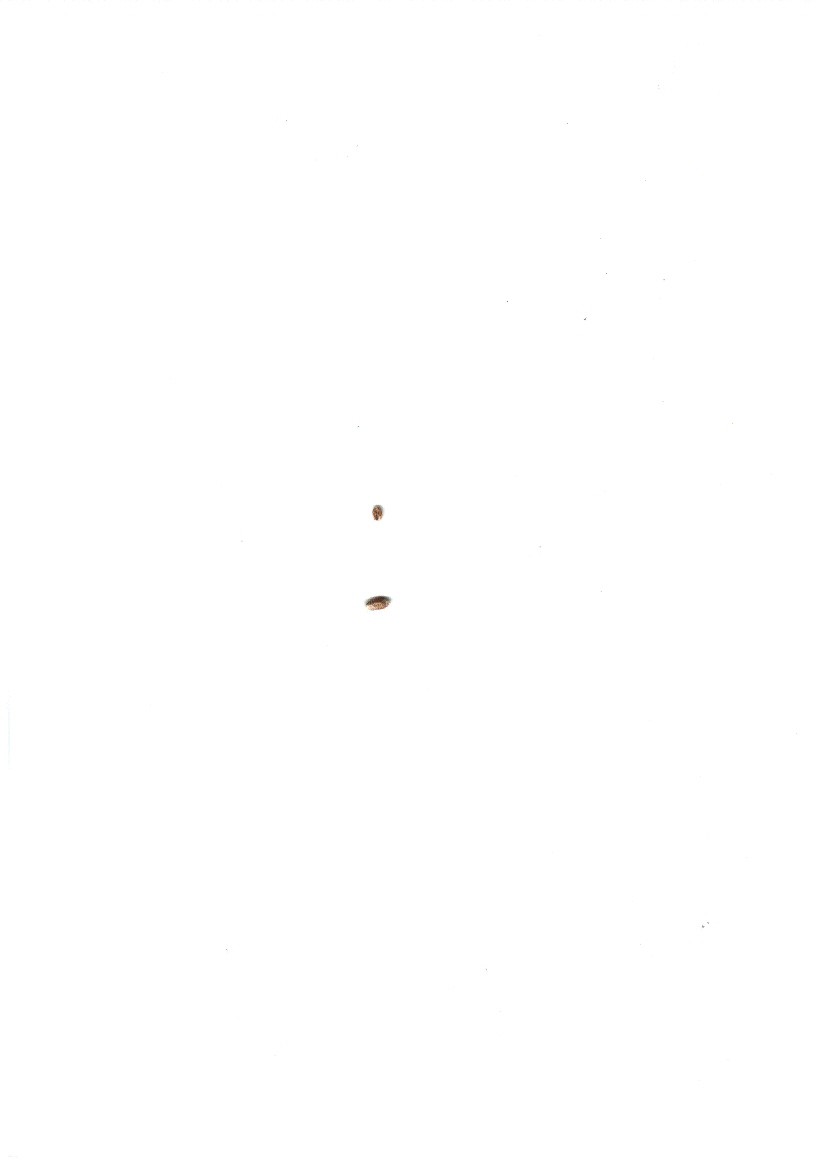grains: (358, 579, 397, 624), (360, 497, 397, 527)
